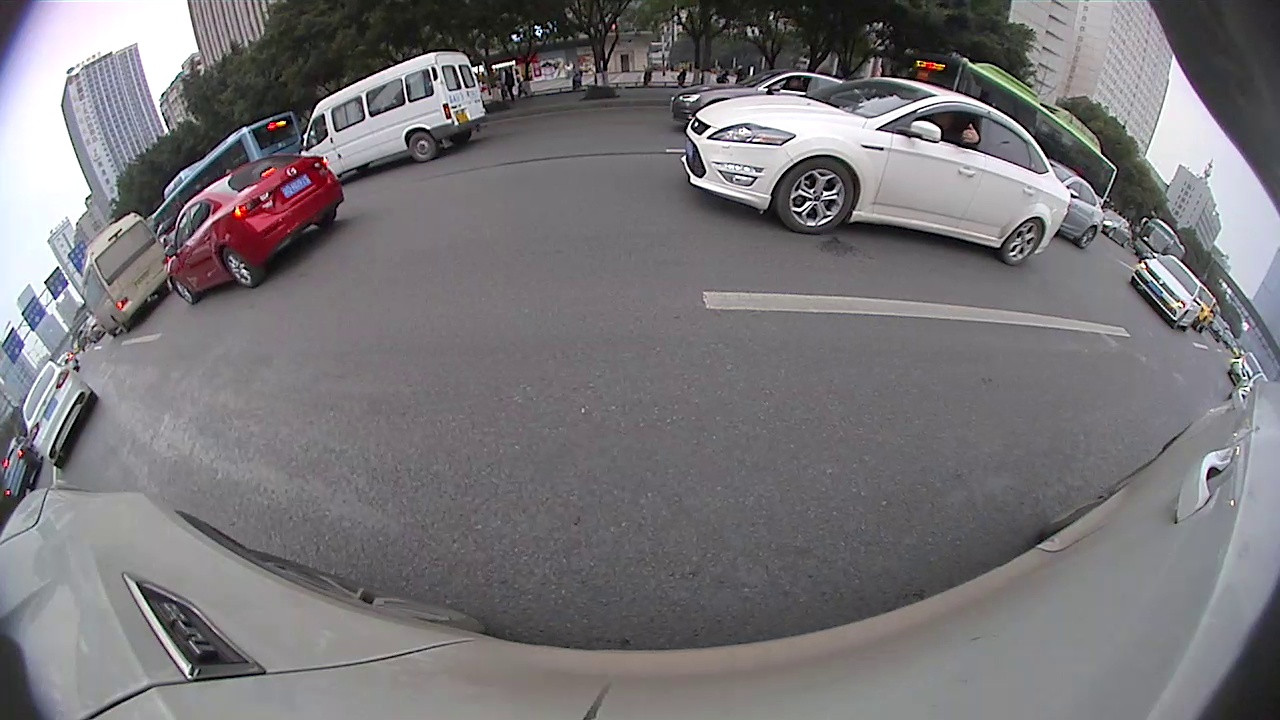bus: (912, 54, 1117, 200), (152, 109, 301, 240), (83, 204, 170, 334)
car: (684, 77, 1061, 263), (167, 152, 341, 305), (301, 53, 484, 175), (669, 70, 856, 123), (21, 366, 97, 464), (1130, 255, 1202, 332), (1041, 164, 1103, 248)
front: (780, 161, 851, 233), (170, 278, 193, 303)
rear: (1006, 220, 1044, 265), (220, 252, 261, 284), (410, 132, 435, 159), (1080, 226, 1097, 248)
